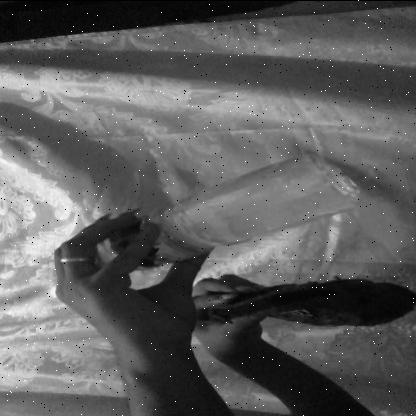Plastic Bottle: (52, 121, 394, 280)
